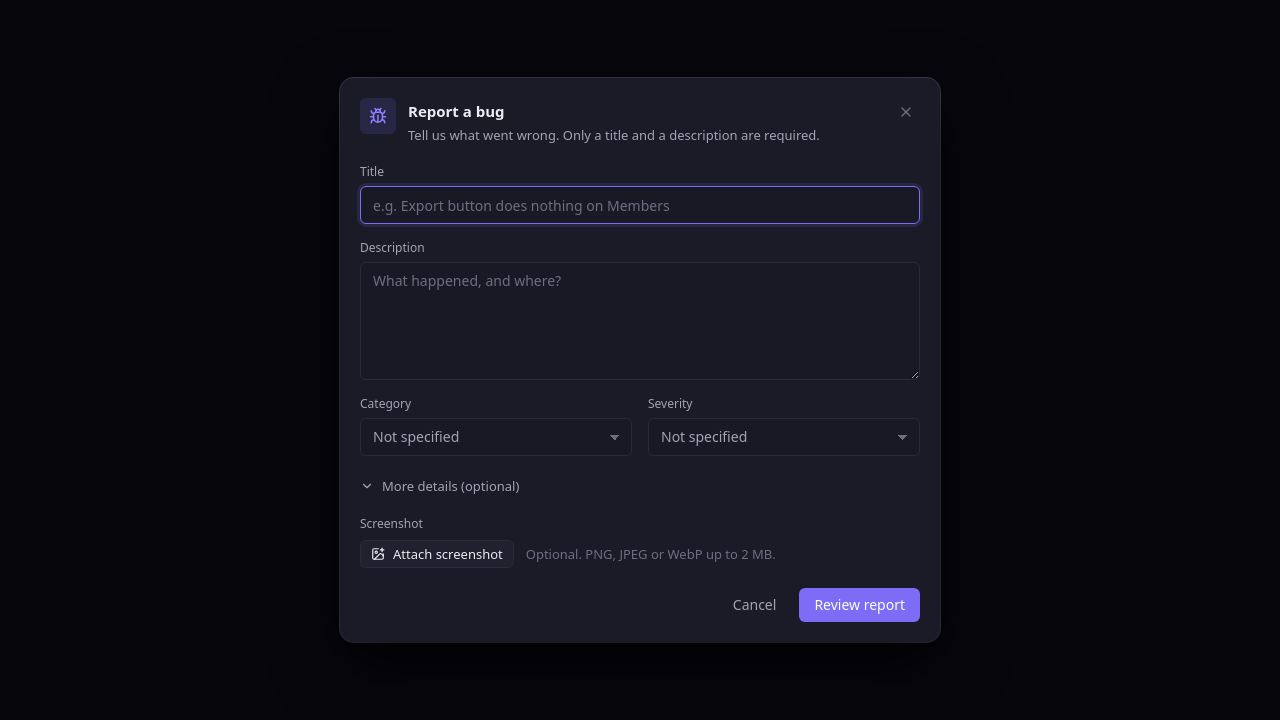
Test case: Report a bug › shows the report and the automatically included context before sending
This screenshot has width=1280, height=720.
In the field labelled "Title": (640, 205) [361,187,919,223], type "  Export does nothing "
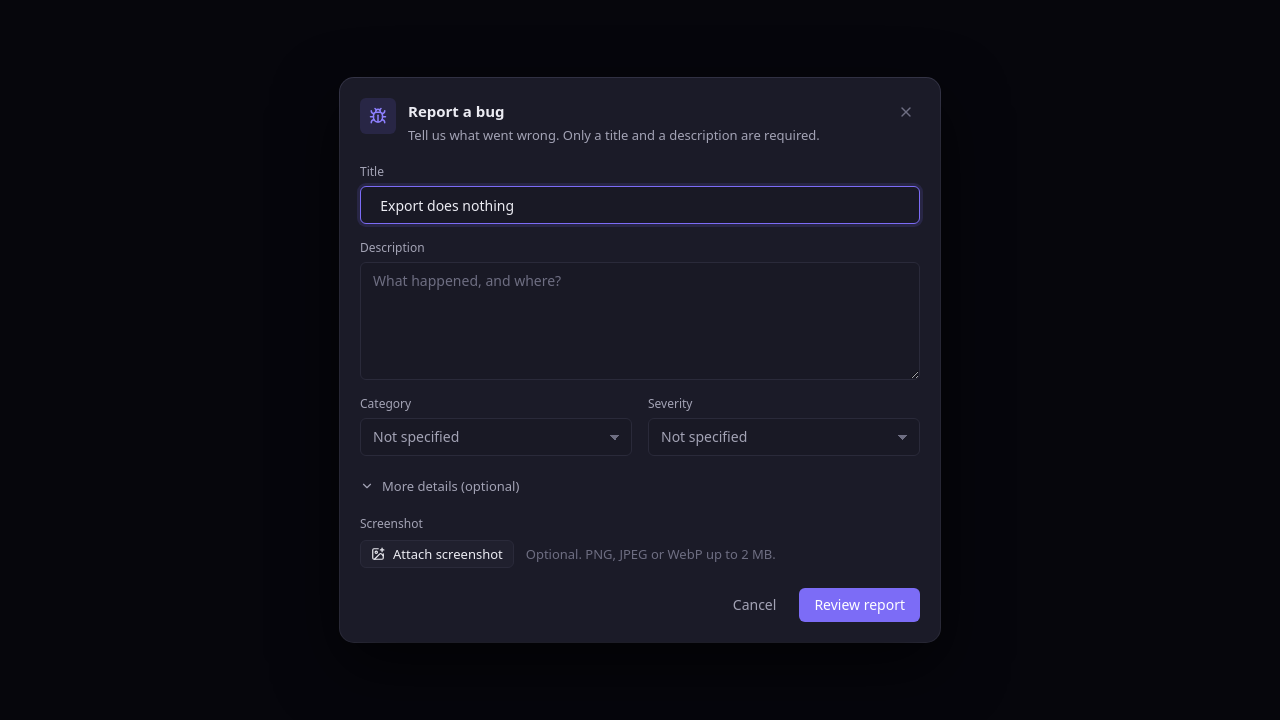
In the text box labelled "Description": (640, 321) [361,263,919,379], type "No file is downloaded."
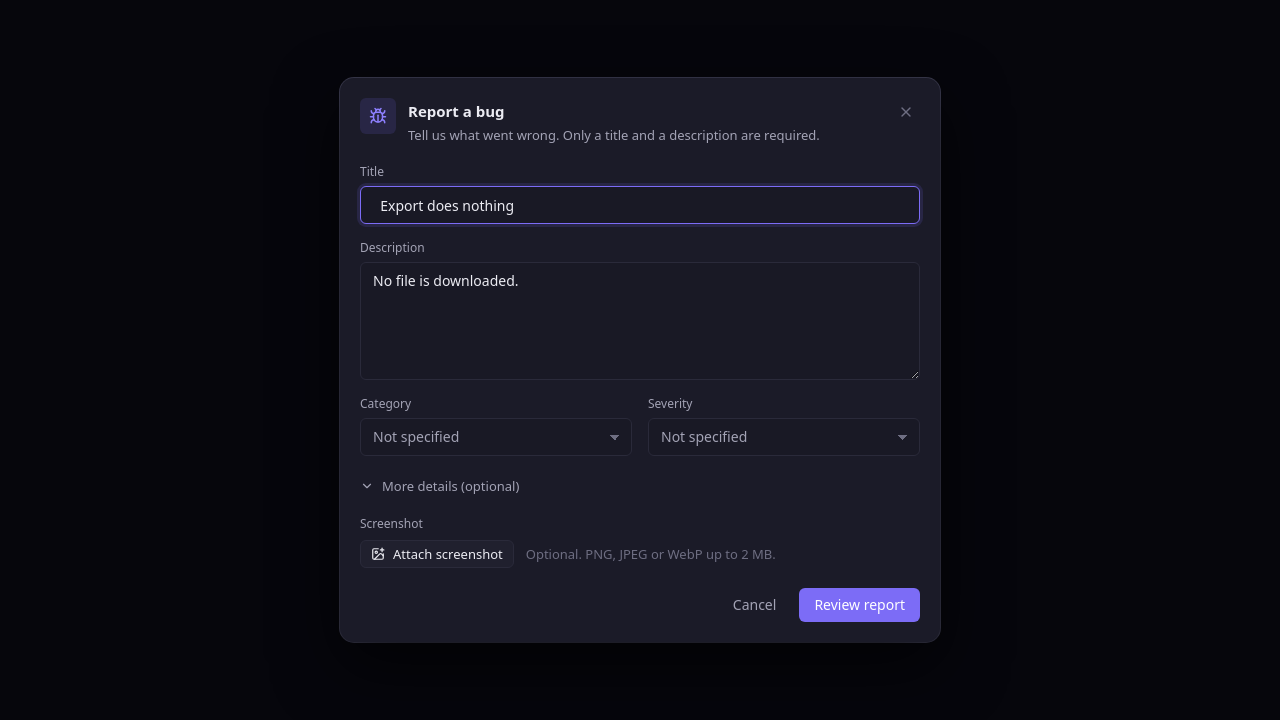
Click the button "Review report": (860, 605) [799,588,920,622]
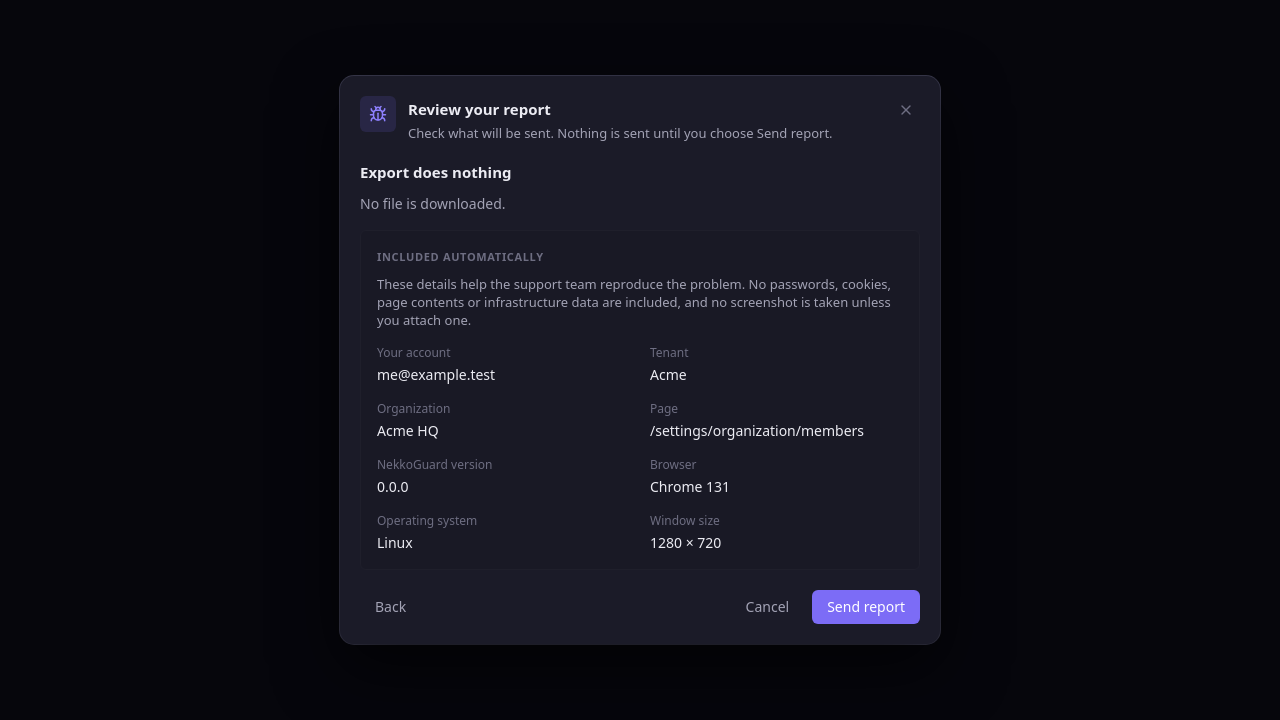
Check: the text "Export does nothing" is shown, box [360,162,512,182]
Check: the text "Included automatically" is shown, box [377,249,544,264]
Check: the text "Acme" is shown, box [650,365,687,384]
